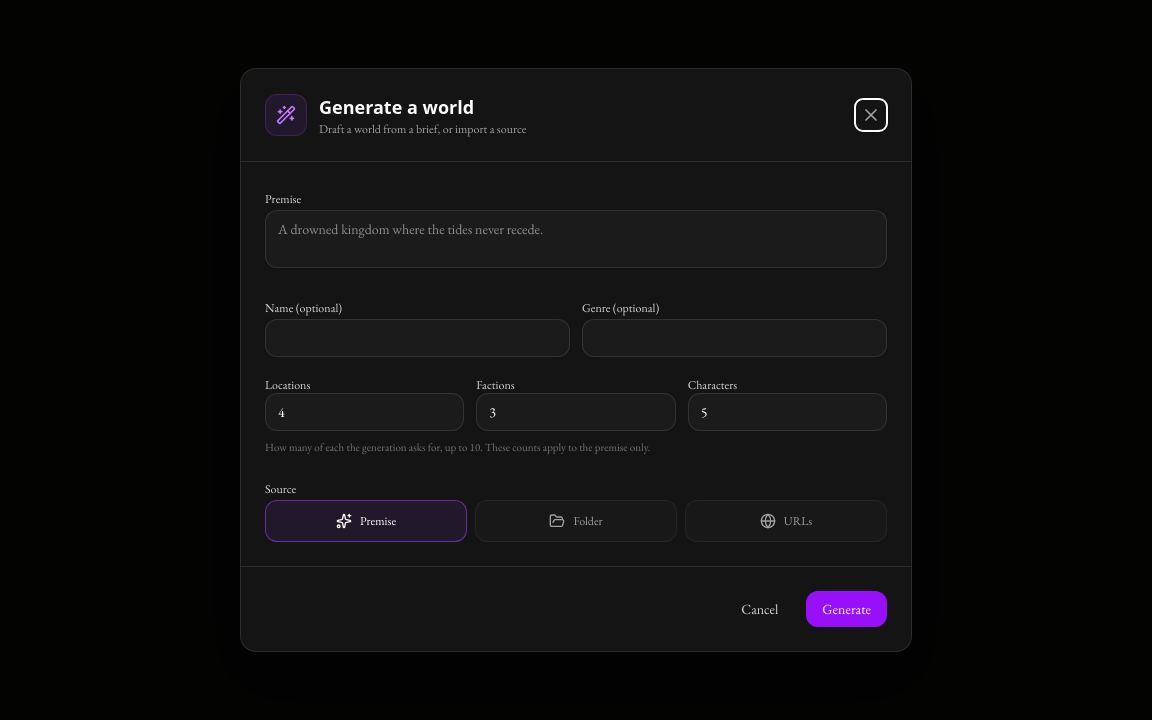
Test case: WorldGenerateDialog › offers a folder source that needs no network, and warns about URLs
Click the button "Folder". click: (576, 521)
box: [475, 500, 677, 542]
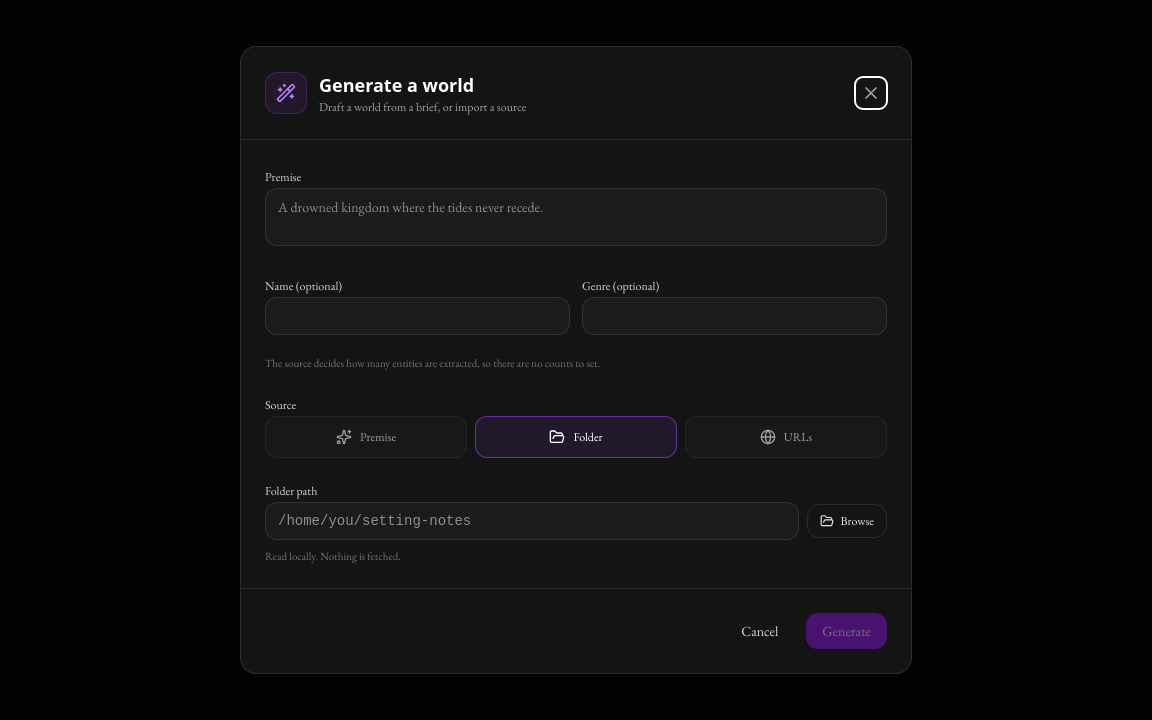
Expected: the field labelled "Folder path" is shown, [265, 502, 799, 540]
Expected: the text "Read locally. Nothing is fetched." is shown, [265, 548, 401, 562]
Click the button "URLs". click: (786, 436)
box: [685, 416, 887, 458]
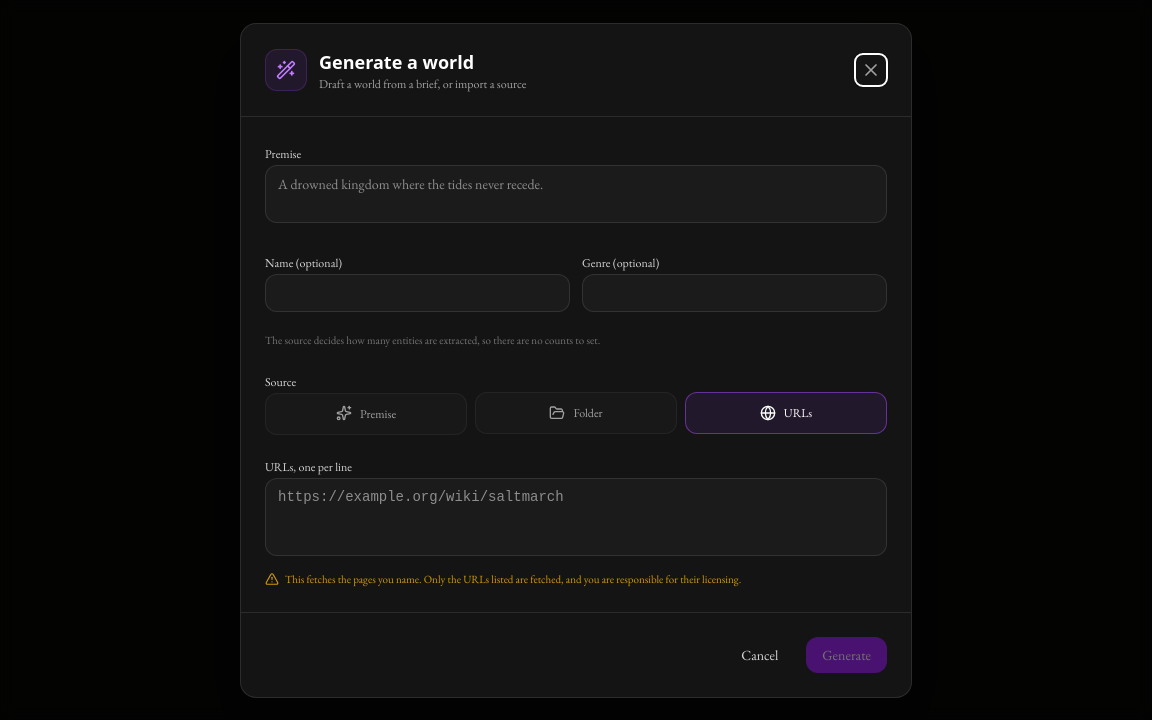
Expected: the text box labelled "URLs, one per line" is shown, [265, 478, 887, 556]
Expected: the text "This fetches the pages you name" is shown, [285, 572, 741, 586]
